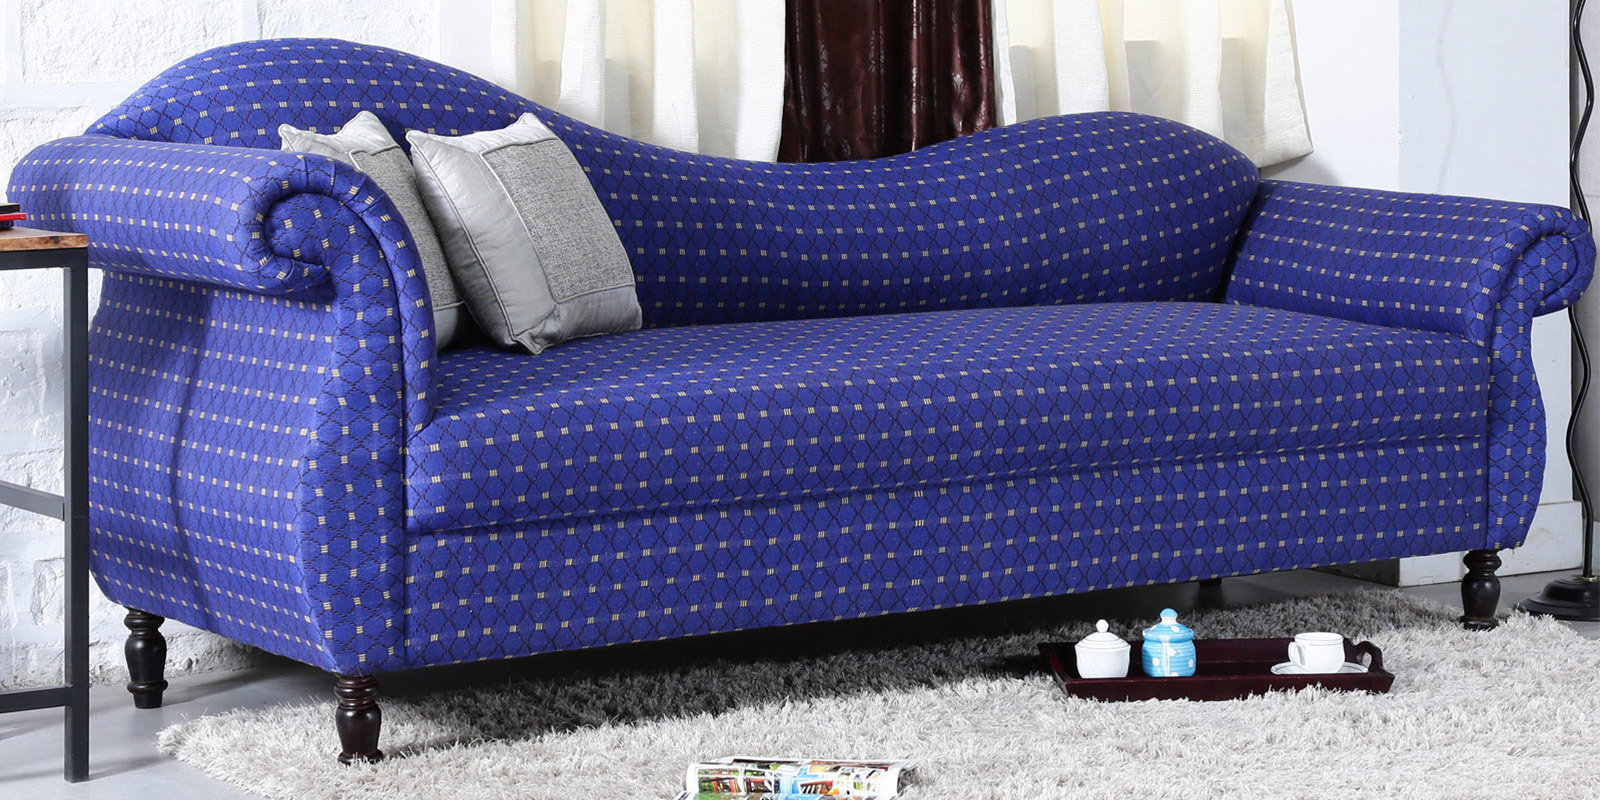Bayley Three Seater Sofa in Blue Color by Amberville: (26, 36, 1590, 663)
